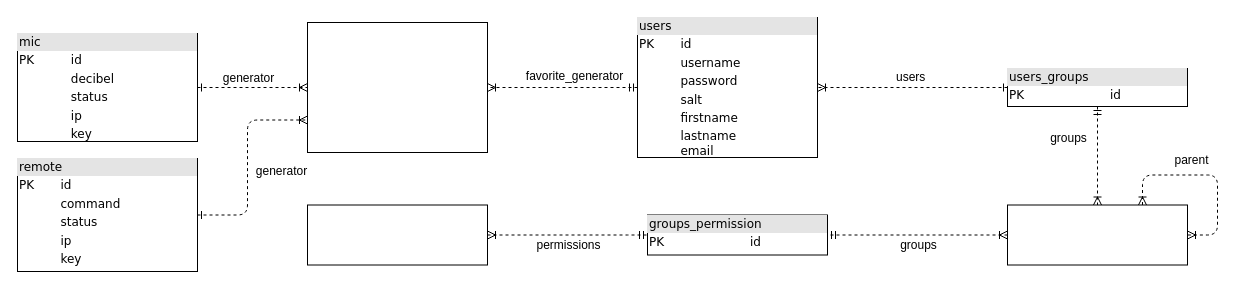
This 1244x289 diagram has some shape labels left out. Here are the shapes that lost their labels. From the top down, the centre of each, then its label:
At point (397, 87): "generator PK id name frequence status ip key".
At point (397, 234): "permissions PK id name".
At point (1097, 234): "groups PK id name".
